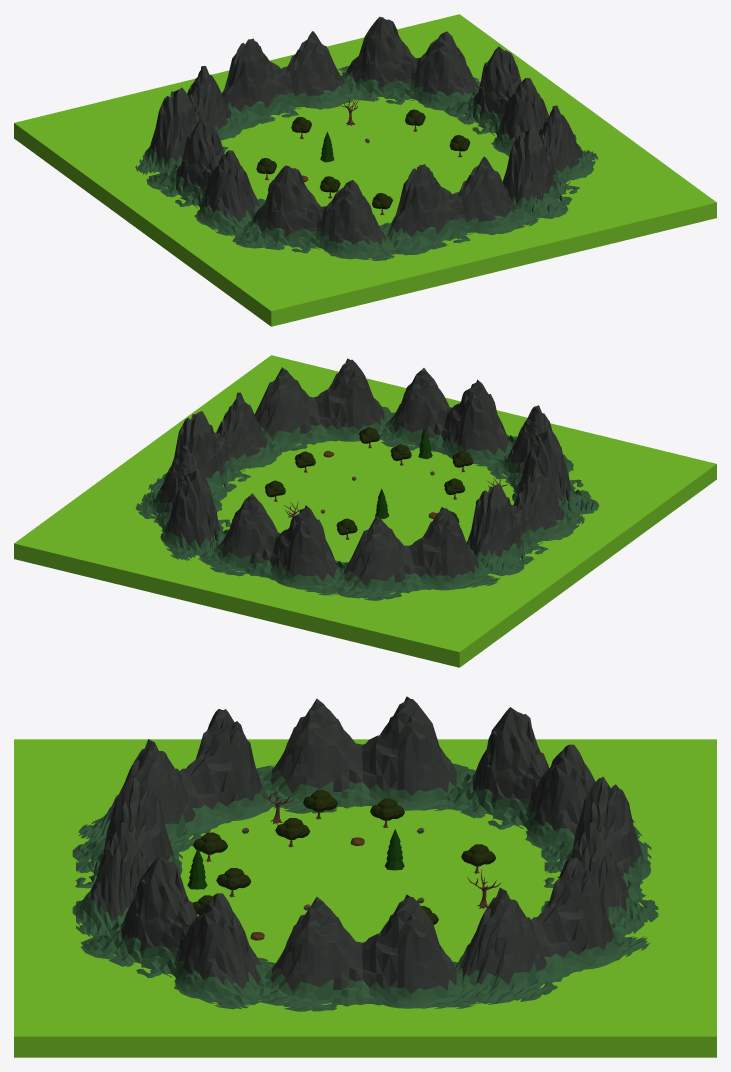
Rendered from Stage2.fbx.
3 views of the same model, one above another, from view 1: azimuth 30°, elevation 25°; view 2: azimuth 150°, elevation 25°; view 3: azimuth 270°, elevation 25° (orthographic). The views are drawn at different scales.
Parts seen in each view (by area): view 1: Cube, mountain__5_, mountain, mountain__4_, mountain__1_, mountain__2_, mountain__7_, mountain__3_, mountain__6_; view 2: Cube, mountain__6_, mountain__1_, mountain__7_, mountain, mountain__2_, mountain__3_, mountain__4_, mountain__5_; view 3: Cube, mountain__3_, mountain__2_, mountain__4_, mountain__7_, mountain__6_, mountain__5_, mountain, mountain__1_, oakTree__6_, oakTree__3_, oakTree__2_ (+3 smaller).
Boxes of the visible parts, x1,y1,x2,y2 form: Cube: (14, 14, 716, 326); mountain__5_: (232, 165, 396, 260); mountain: (379, 157, 539, 255); mountain__4_: (337, 16, 480, 110); mountain__1_: (222, 31, 363, 129); mountain__2_: (146, 119, 265, 236); mountain__7_: (503, 105, 598, 218); mountain__3_: (444, 46, 576, 156); mountain__6_: (135, 66, 242, 174); Cube: (14, 355, 716, 667); mountain__6_: (331, 507, 500, 600); mountain__1_: (198, 493, 348, 595); mountain__7_: (254, 358, 394, 452); mountain: (379, 368, 517, 467); mountain__2_: (466, 465, 584, 576); mountain__3_: (148, 392, 284, 500); mountain__4_: (135, 445, 230, 560); mountain__5_: (487, 405, 599, 515); Cube: (14, 739, 716, 1057); mountain__3_: (258, 894, 475, 1011); mountain__2_: (256, 696, 475, 813); mountain__4_: (455, 857, 649, 1004); mountain__7_: (80, 855, 275, 1009); mountain__6_: (442, 707, 641, 849); mountain__5_: (78, 709, 276, 851); mountain: (72, 776, 182, 936); mountain__1_: (541, 776, 658, 935); oakTree__6_: (461, 844, 495, 873); oakTree__3_: (216, 868, 251, 897); oakTree__2_: (370, 798, 404, 827).
Size of the model in its own units: 30000 by 5360 by 30000.
